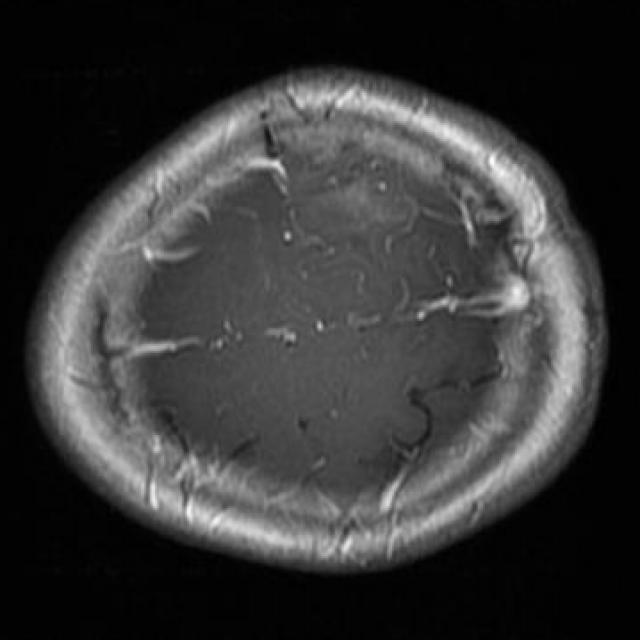glioma: (269, 144, 419, 239)
